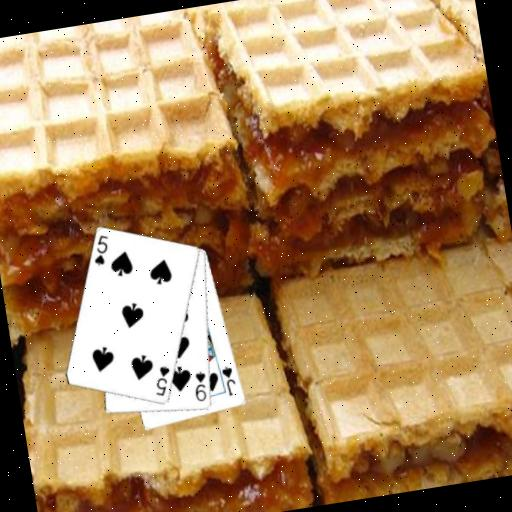5S: (148, 362, 175, 399), (87, 231, 114, 268)
9S: (189, 368, 211, 404)
JS: (218, 362, 239, 398)
